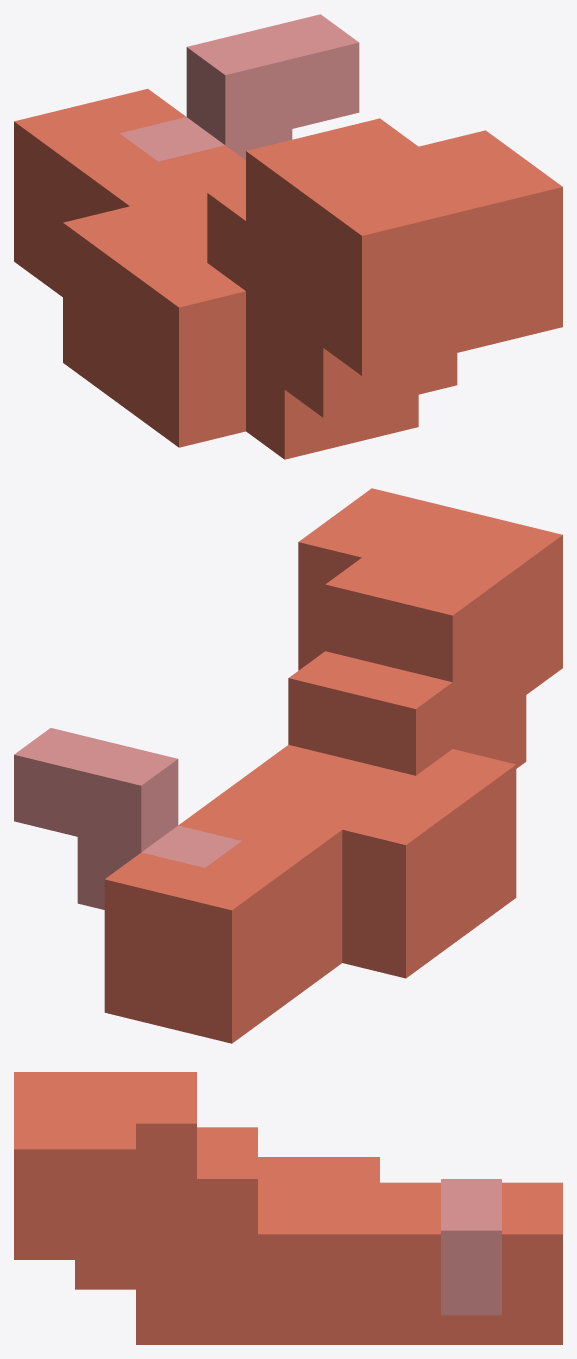
File: octopus__arm_5.glb
3 renders of one model, top to bottom at view 1: azimuth 30°, elevation 25°; view 2: azimuth 150°, elevation 25°; view 3: azimuth 270°, elevation 25°, orthographic. The views are drawn at different scales.
Visible parts, largest first — view 1: octopus__arm_5; view 2: octopus__arm_5; view 3: octopus__arm_5.
Part boxes in pixels (x1,y1,x2,y2): octopus__arm_5: [14, 14, 562, 459]; octopus__arm_5: [14, 488, 562, 1043]; octopus__arm_5: [14, 1072, 562, 1344].
Bounding box in the file's own units: 0.5 × 0.4 × 0.9.
Materials: 1 (1 with a texture image).
